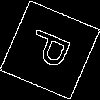P: (25, 25, 82, 75)
